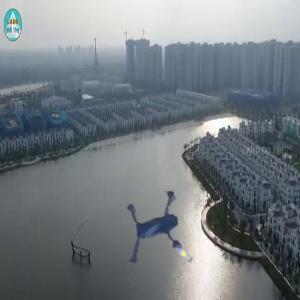drone: (104, 180, 220, 296)
